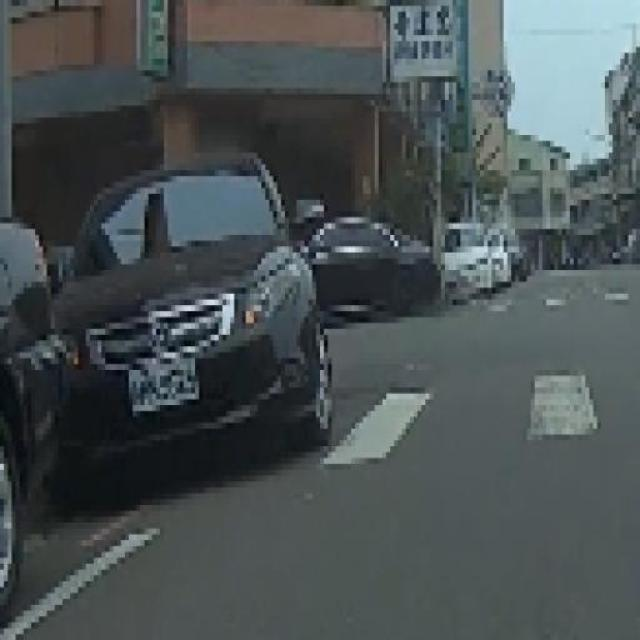illegalparking: (0, 91, 373, 534)
